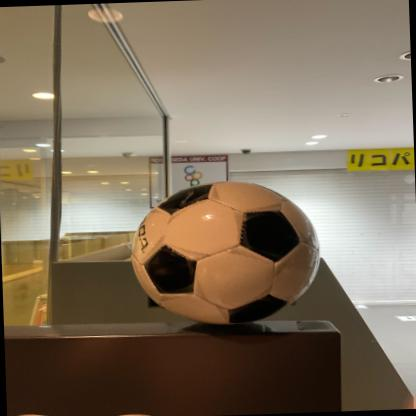ball: (133, 178, 322, 329)
